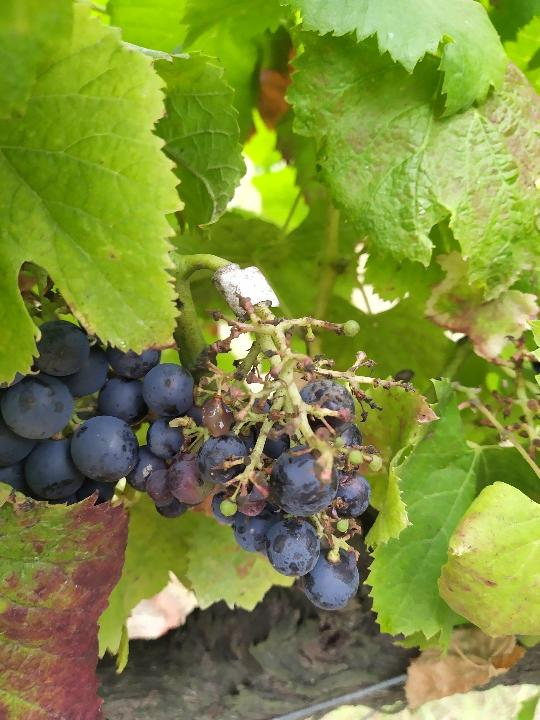grape: (146, 304, 415, 615)
